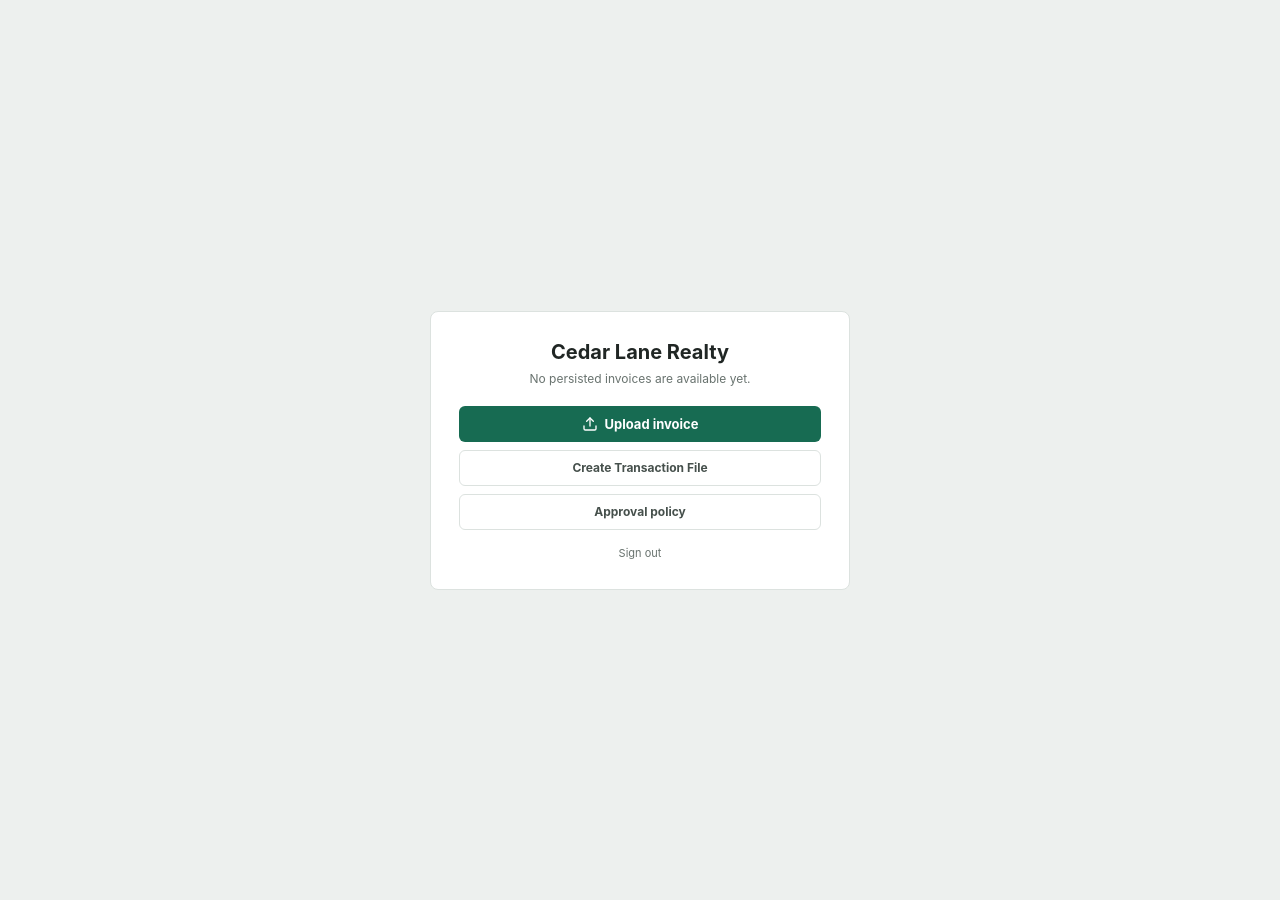
Sprint 1 review flow › opens approval policy settings from an empty workspace
This screenshot has width=1280, height=900.
Click the button "Approval policy". click: (640, 512)
box: [459, 494, 821, 530]
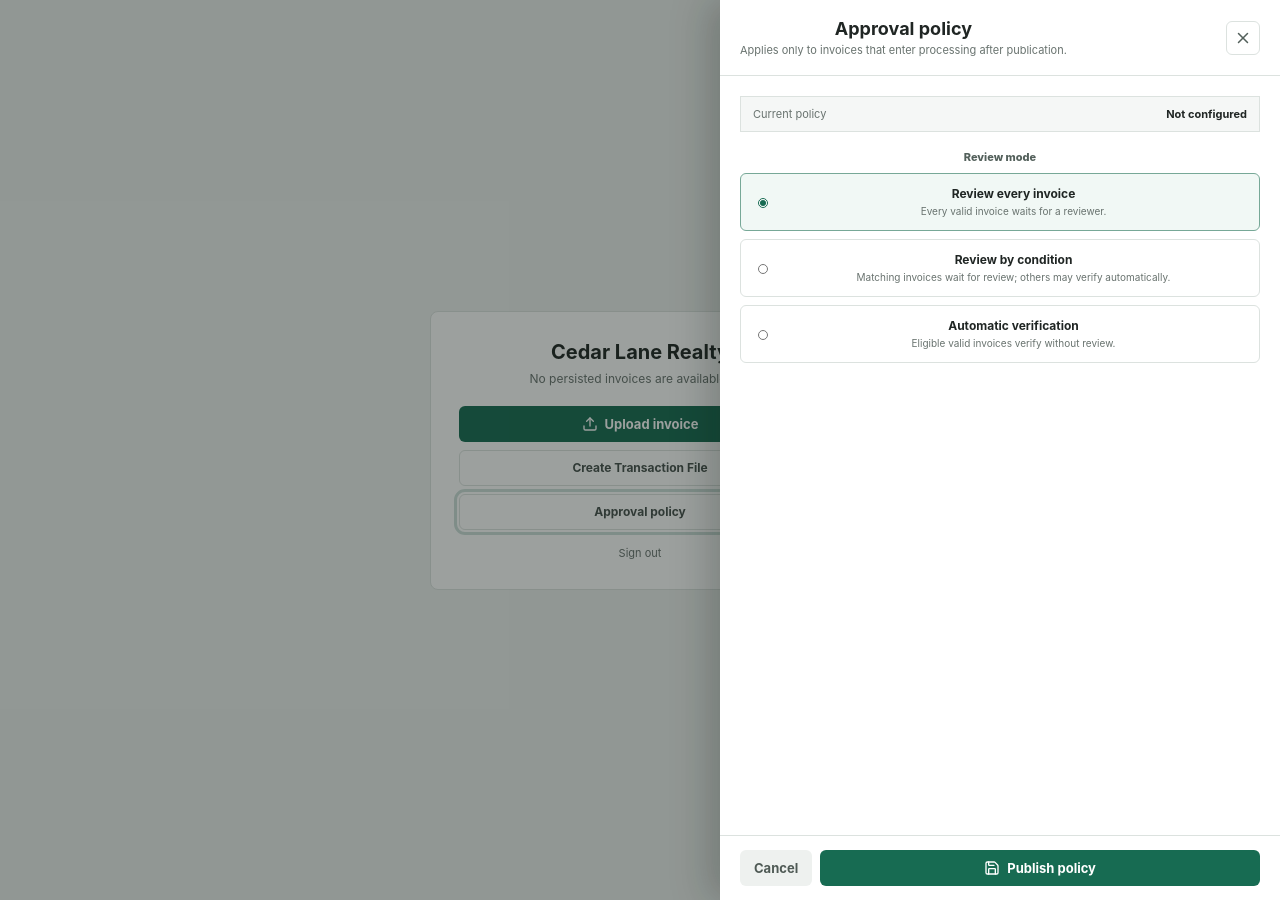
Check: the dialog "Approval policy" is shown, box [720, 0, 1279, 899]
Check: the button "Publish policy" is shown, box [820, 850, 1260, 886]
